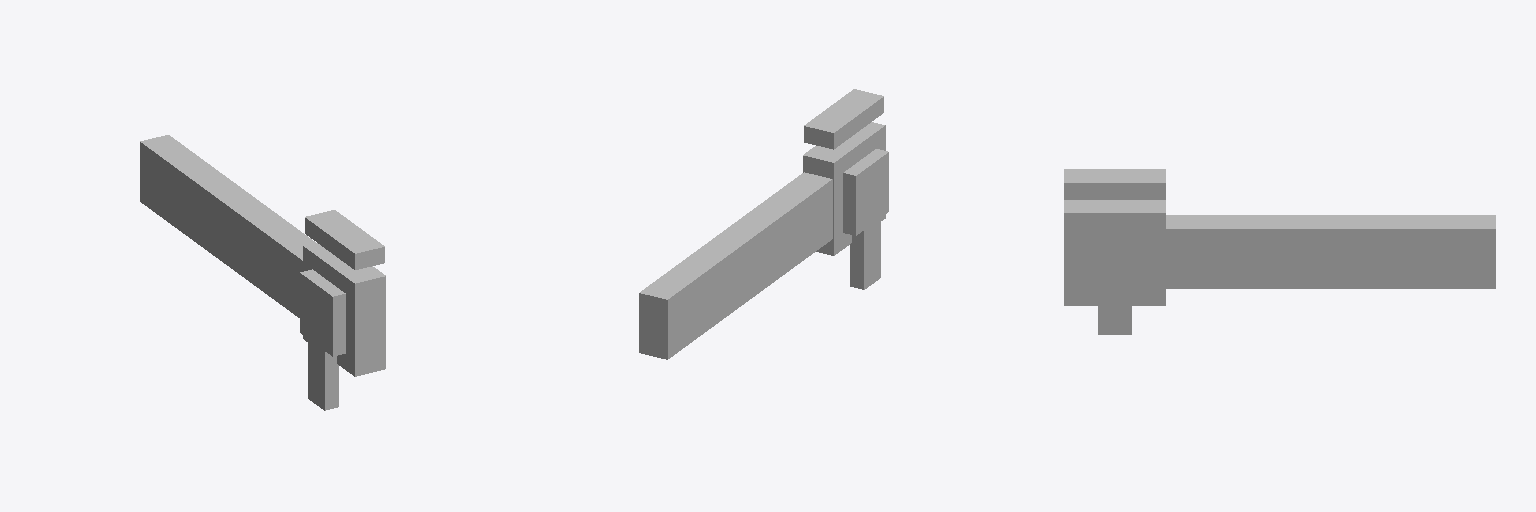
The model's file is left_p_rod.obj.
3 views of the same model, side by side, from view 1: azimuth 30°, elevation 25°; view 2: azimuth 150°, elevation 25°; view 3: azimuth 270°, elevation 25° (orthographic).
Parts seen in each view (by area): view 1: Rod; view 2: Rod; view 3: Rod.
Part boxes in pixels (x1,y1,x2,y2): Rod: (140,135,385,410); Rod: (639,89,888,359); Rod: (1064,169,1495,334).
Size of the model in its own units: 0.1938 by 0.6906 by 1.63.